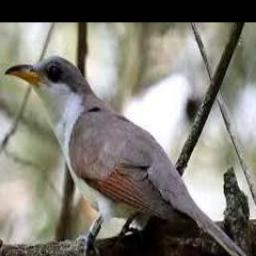Cuckoo: (6, 56, 256, 256)
